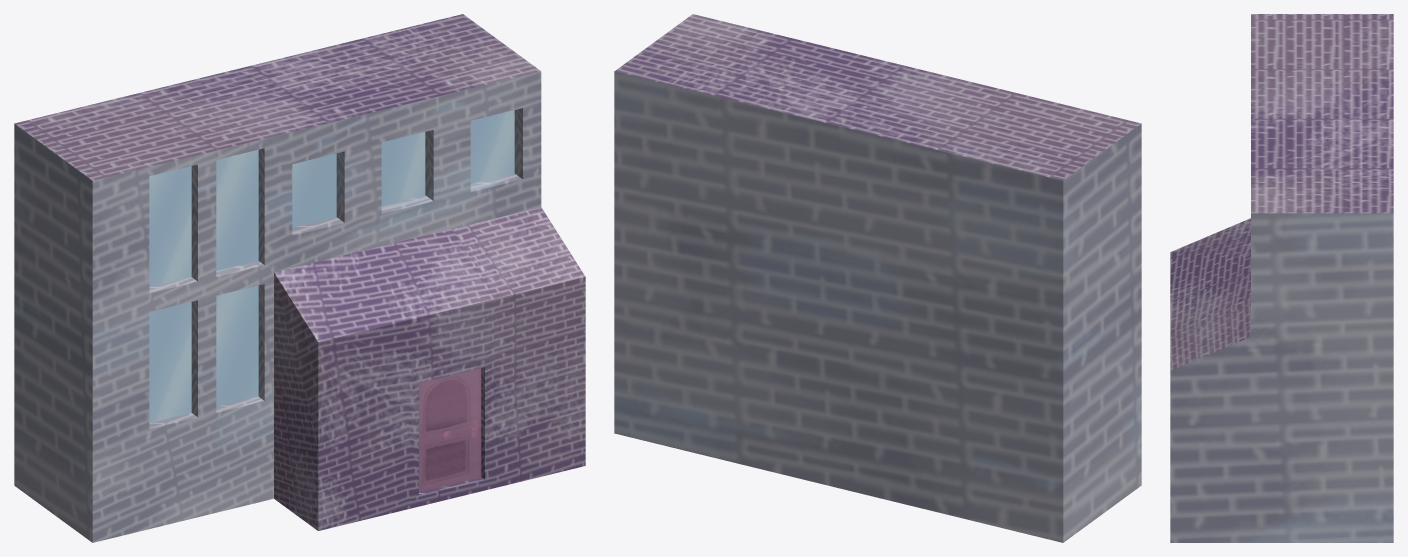
File: SM_cassa_10.fbx
3 views of the same model, side by side, from view 1: azimuth 30°, elevation 25°; view 2: azimuth 150°, elevation 25°; view 3: azimuth 270°, elevation 25° (orthographic). The views are drawn at different scales.
Visible parts, largest first — view 1: Casa_0.006; view 2: Casa_0.006; view 3: Casa_0.006.
Boxes of the visible parts, bbox=[...] form: Casa_0.006: bbox=[14, 14, 585, 542]; Casa_0.006: bbox=[614, 14, 1141, 542]; Casa_0.006: bbox=[1170, 14, 1393, 542].
Size of the model in its own units: 1771 by 1366 by 839.
